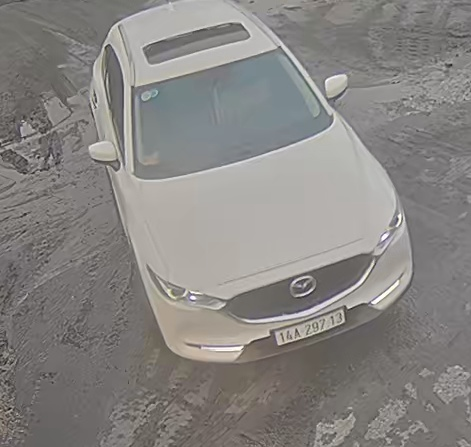vehicle plate: (268, 305, 351, 349)
